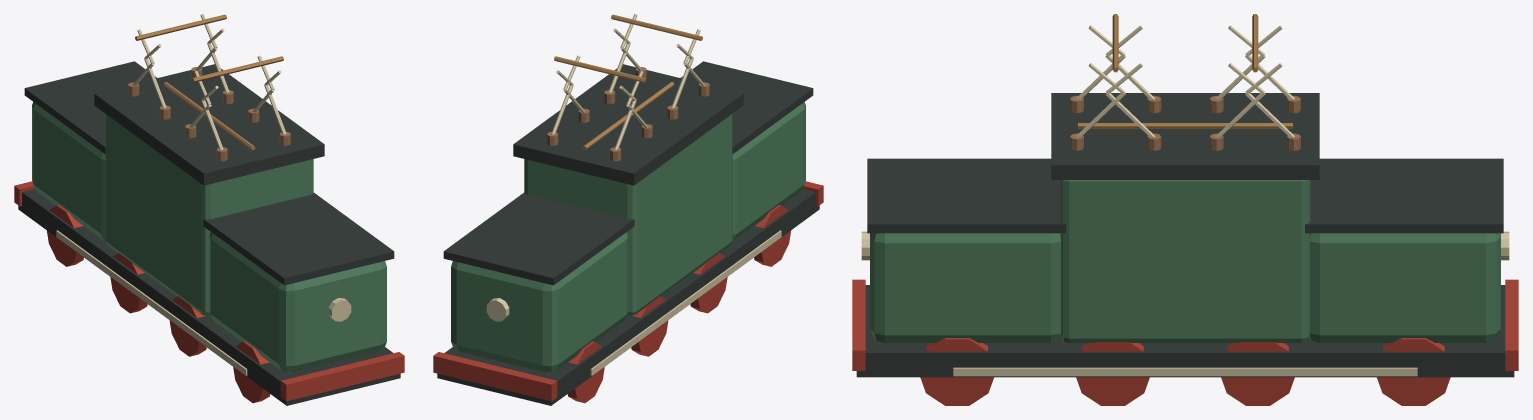
File: nord-el-1_lod1.glb
3 renders of one model, left to right at view 1: azimuth 30°, elevation 25°; view 2: azimuth 150°, elevation 25°; view 3: azimuth 270°, elevation 25°, orthographic. The views are drawn at different scales.
Parts seen in each view (by area): view 1: RF_El1_Cab, RF_El1_Hood.001, RF_El1_CabRoof, RF_El1_HoodTop.001, RF_El1_Chassis, RF_El1_Hood, RF_El1_HoodTop, RF_El1_BufferBeam.001, RF_El1_RunningRod.001, RF_El1_Wheel.001, RF_El1_Wheel.007, RF_El1_Wheel.003 (+5 smaller); view 2: RF_El1_Cab, RF_El1_Hood, RF_El1_CabRoof, RF_El1_HoodTop, RF_El1_Chassis, RF_El1_Hood.001, RF_El1_HoodTop.001, RF_El1_BufferBeam, RF_El1_RunningRod.001, RF_El1_Wheel.001, RF_El1_Wheel.007, RF_El1_Wheel.005 (+5 smaller); view 3: RF_El1_Cab, RF_El1_Hood.001, RF_El1_Hood, RF_El1_CabRoof, RF_El1_Chassis, RF_El1_HoodTop.001, RF_El1_HoodTop, RF_El1_RunningRod, RF_El1_Wheel.002, RF_El1_Wheel, RF_El1_Wheel.004, RF_El1_Wheel.006 (+3 smaller).
Boxes of the visible parts, <box> form: RF_El1_Cab: <box>105,114,313,315</box>; RF_El1_Hood.001: <box>209,232,386,372</box>; RF_El1_CabRoof: <box>94,64,324,185</box>; RF_El1_HoodTop.001: <box>203,192,394,285</box>; RF_El1_Chassis: <box>18,189,400,405</box>; RF_El1_Hood: <box>32,102,105,241</box>; RF_El1_HoodTop: <box>24,61,156,154</box>; RF_El1_BufferBeam.001: <box>280,352,404,401</box>; RF_El1_RunningRod.001: <box>56,230,247,375</box>; RF_El1_Wheel.001: <box>233,341,270,403</box>; RF_El1_Wheel.007: <box>47,205,83,266</box>; RF_El1_Wheel.003: <box>169,296,206,356</box>; RF_El1_Cab: <box>524,114,732,315</box>; RF_El1_Hood: <box>451,232,628,372</box>; RF_El1_CabRoof: <box>513,64,743,185</box>; RF_El1_HoodTop: <box>443,192,634,285</box>; RF_El1_Chassis: <box>437,189,819,405</box>; RF_El1_Hood.001: <box>732,102,805,241</box>; RF_El1_HoodTop.001: <box>681,61,813,154</box>; RF_El1_BufferBeam: <box>433,352,557,401</box>; RF_El1_RunningRod.001: <box>590,230,781,375</box>; RF_El1_Wheel.001: <box>754,205,790,266</box>; RF_El1_Wheel.007: <box>567,341,604,403</box>; RF_El1_Wheel.005: <box>631,296,668,356</box>; RF_El1_Cab: <box>1060,180,1310,342</box>; RF_El1_Hood.001: <box>870,233,1061,342</box>; RF_El1_Hood: <box>1309,233,1500,342</box>; RF_El1_CabRoof: <box>1051,93,1319,179</box>; RF_El1_Chassis: <box>856,285,1514,377</box>; RF_El1_HoodTop.001: <box>867,158,1065,233</box>; RF_El1_HoodTop: <box>1305,158,1503,233</box>; RF_El1_RunningRod: <box>953,367,1417,376</box>; RF_El1_Wheel.002: <box>920,338,993,405</box>; RF_El1_Wheel: <box>1377,338,1450,405</box>; RF_El1_Wheel.004: <box>1076,342,1149,405</box>; RF_El1_Wheel.006: <box>1221,342,1294,405</box>.
Size of the model in its own units: 3.18 by 6.83 by 12.41.
